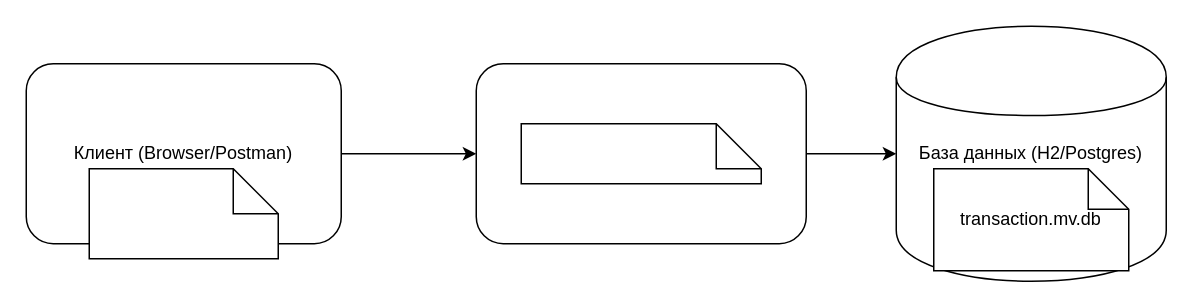
The diagram is 1193 pixels wide and 308 high, and some of its shapes have lost their labels. Here are the shapes that lost their labels. From the top down, the centre of each, then its label:
(x=640, y=153): bank-recommendation.jar
(x=183, y=213): HTTP Request
